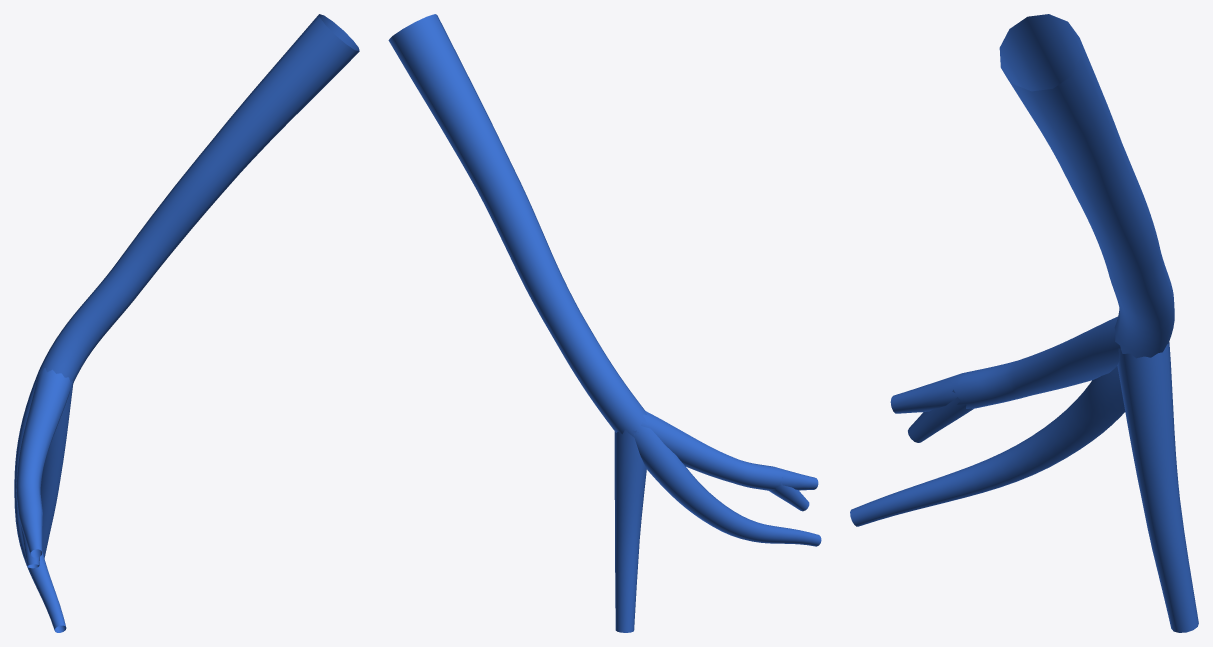
The model's file is circulatorio-anterior-basal-segmental-artery-of-right-lung.glb.
3 renders of one model, left to right at view 1: azimuth 30°, elevation 25°; view 2: azimuth 150°, elevation 25°; view 3: azimuth 270°, elevation 25°, orthographic. The views are drawn at different scales.
Parts seen in each view (by area): view 1: Anterior basal segmental artery of right lung; view 2: Anterior basal segmental artery of right lung; view 3: Anterior basal segmental artery of right lung.
Part boxes in pixels (box(x1,y1,x2,y2)): Anterior basal segmental artery of right lung: box(14, 14, 359, 632); Anterior basal segmental artery of right lung: box(388, 14, 821, 632); Anterior basal segmental artery of right lung: box(850, 14, 1198, 632).
Bounding box in the file's own units: 0.0702 × 0.0932 × 0.0371.
